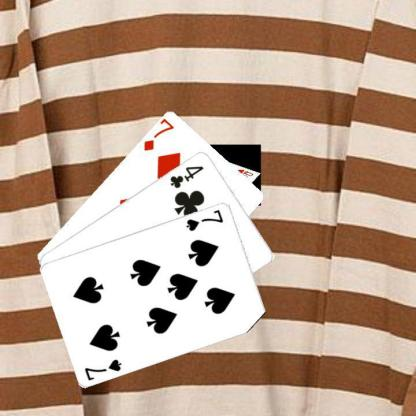4C: (167, 163, 205, 189)
7D: (141, 116, 176, 152)
7S: (82, 356, 123, 382), (184, 206, 224, 232)
